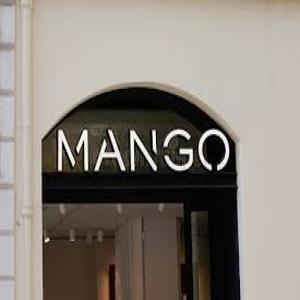mango: (53, 119, 238, 180)
